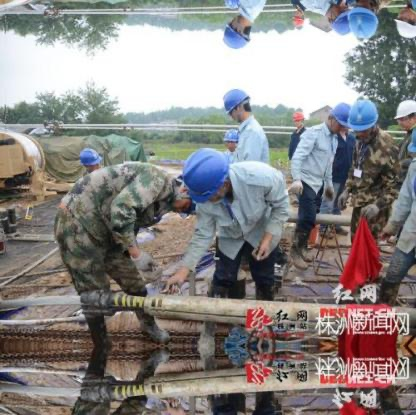Safety Helmet: (181, 140, 234, 207), (217, 9, 259, 63), (347, 96, 379, 148), (219, 84, 258, 125), (391, 3, 416, 54), (323, 96, 350, 142), (389, 96, 416, 138)
